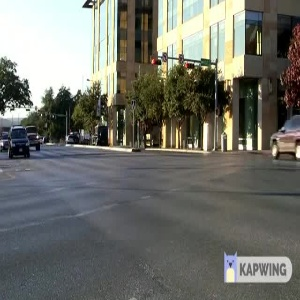van: (5, 122, 32, 161)
